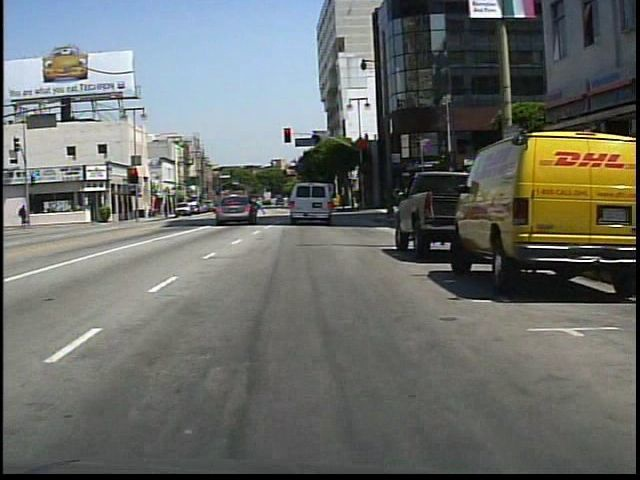person: (287, 191, 304, 222), (19, 202, 29, 228), (258, 194, 268, 219)
